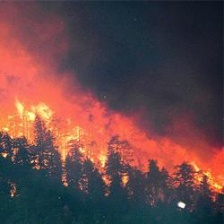fire: (2, 102, 224, 200)
